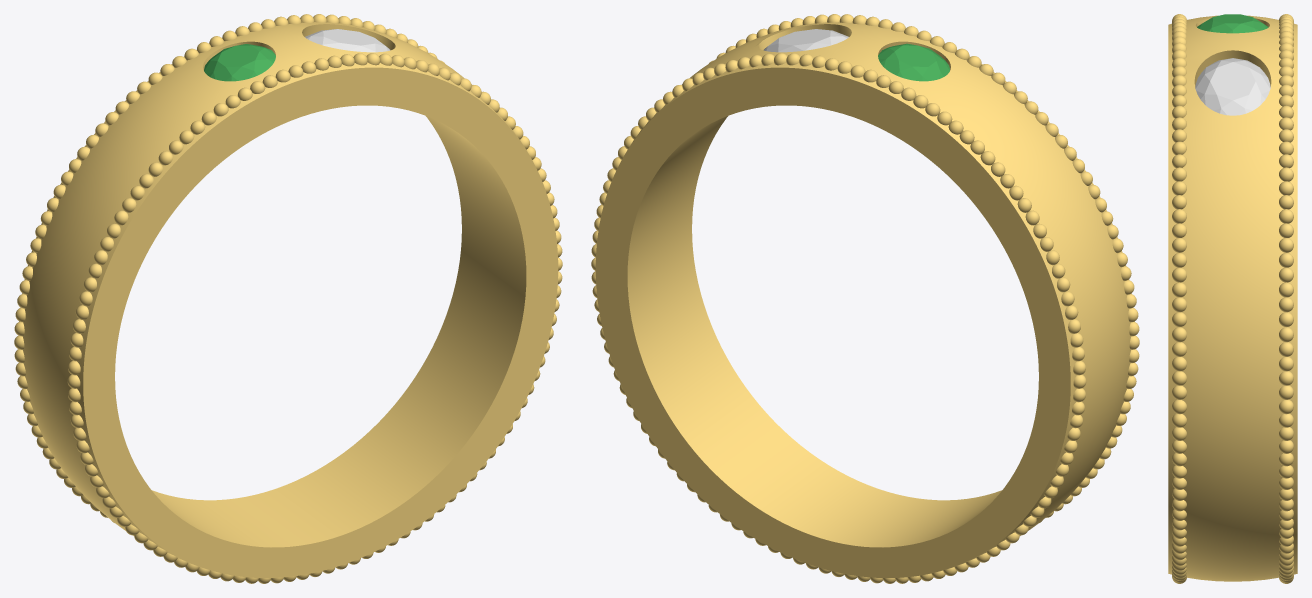
File: EmilyYGwb.glb
The picture shows the model from 3 angles, left to right: view 1: azimuth 30°, elevation 25°; view 2: azimuth 150°, elevation 25°; view 3: azimuth 270°, elevation 25°; orthographic projection.
Visible parts, largest first — view 1: Emily YG for 3d model, Emily jade for 3d model, Emily dia for 3d model; view 2: Emily YG for 3d model, Emily jade for 3d model, Emily dia for 3d model; view 3: Emily YG for 3d model, Emily dia for 3d model, Emily jade for 3d model.
Boxes of the visible parts, bbox=[...] form: Emily YG for 3d model: bbox=[14, 14, 562, 583]; Emily jade for 3d model: bbox=[204, 44, 275, 81]; Emily dia for 3d model: bbox=[305, 29, 390, 52]; Emily YG for 3d model: bbox=[591, 14, 1139, 583]; Emily jade for 3d model: bbox=[878, 43, 949, 81]; Emily dia for 3d model: bbox=[763, 29, 848, 52]; Emily YG for 3d model: bbox=[1168, 14, 1297, 583]; Emily dia for 3d model: bbox=[1195, 58, 1270, 115]; Emily jade for 3d model: bbox=[1197, 14, 1268, 33].
Size of the model in its own units: 22.52 by 22.54 by 5.1.
